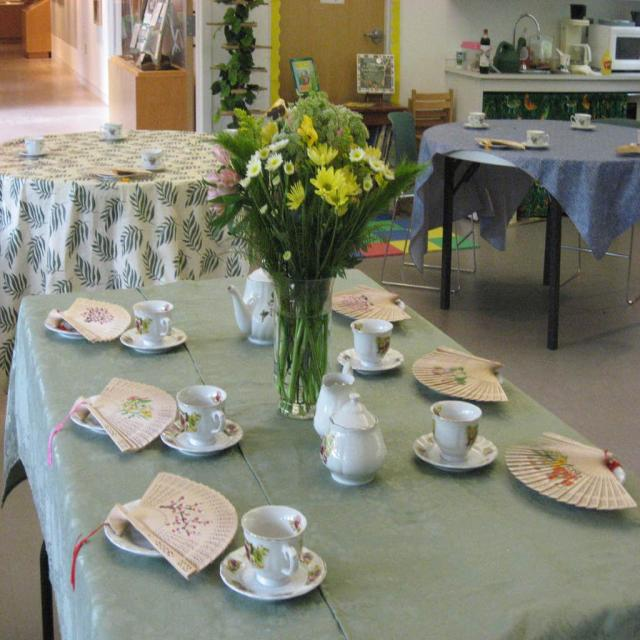non-organic waste: (179, 491, 344, 640), (400, 400, 512, 490), (160, 397, 256, 470)
